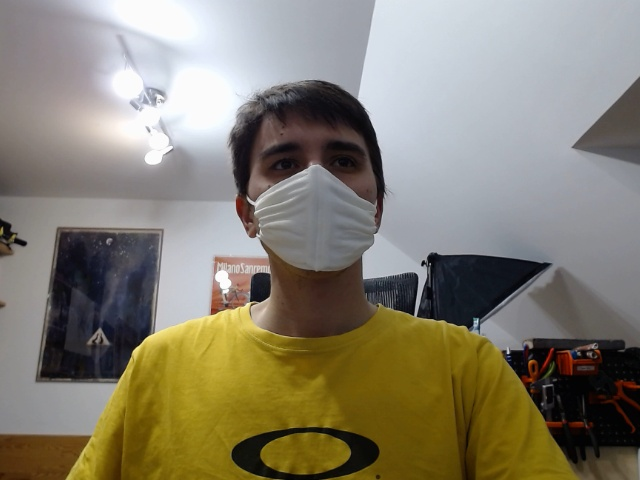CorrectMask: (232, 78, 387, 278)
